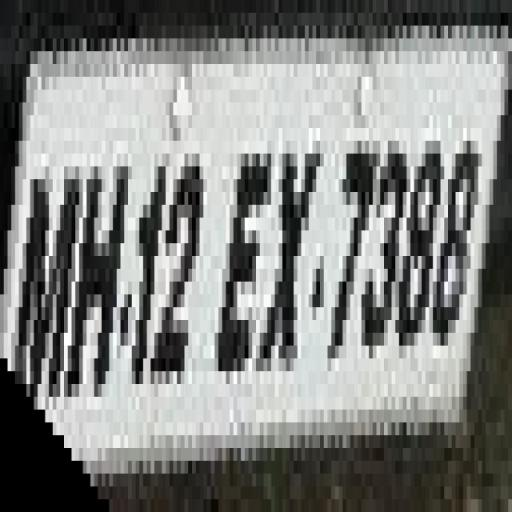number plate: (4, 13, 482, 461)
